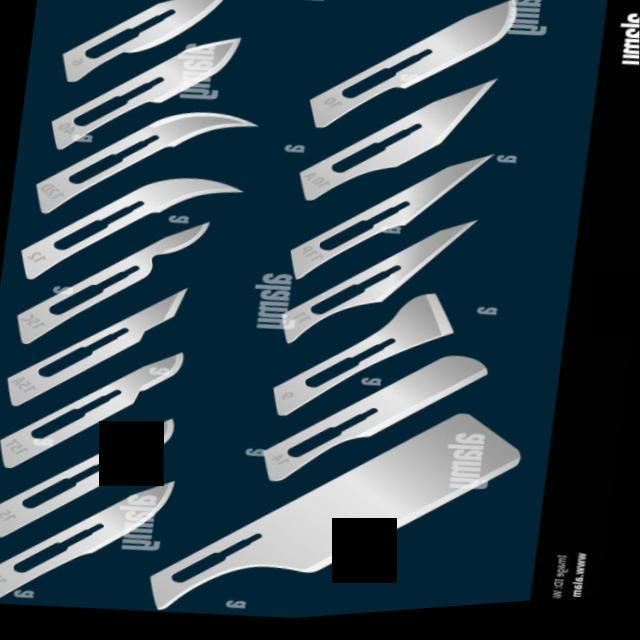Surgical blade: (254, 330, 508, 510), (2, 138, 254, 314), (282, 132, 498, 312), (34, 77, 254, 252), (0, 192, 225, 362), (289, 52, 500, 229), (273, 196, 485, 368), (23, 12, 238, 178), (307, 0, 528, 161), (0, 383, 203, 556), (0, 262, 208, 428), (0, 327, 192, 491), (0, 454, 185, 622), (51, 0, 240, 100)
